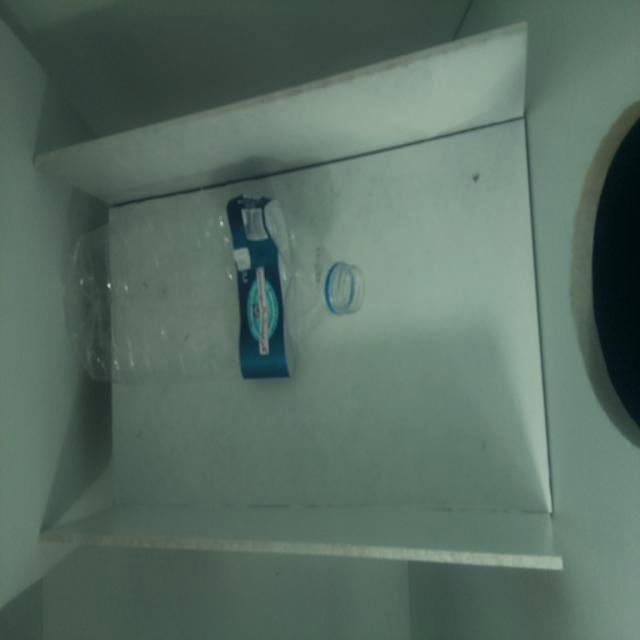bottle: (70, 192, 366, 384)
